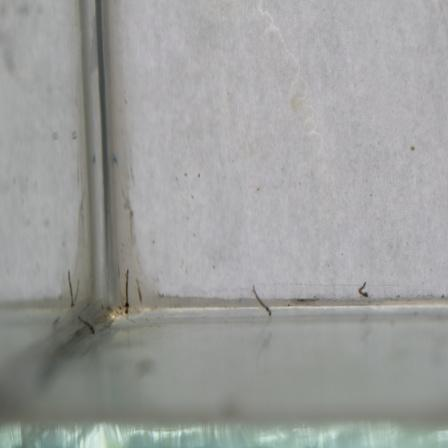Jentik-Nyamuk: (247, 282, 274, 318), (120, 265, 133, 320), (74, 315, 99, 337), (354, 278, 371, 301)
